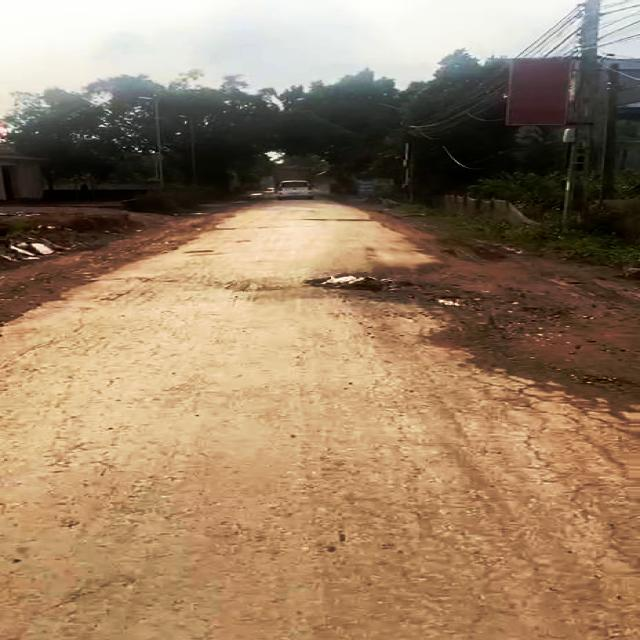pothole: (306, 274, 424, 296)
